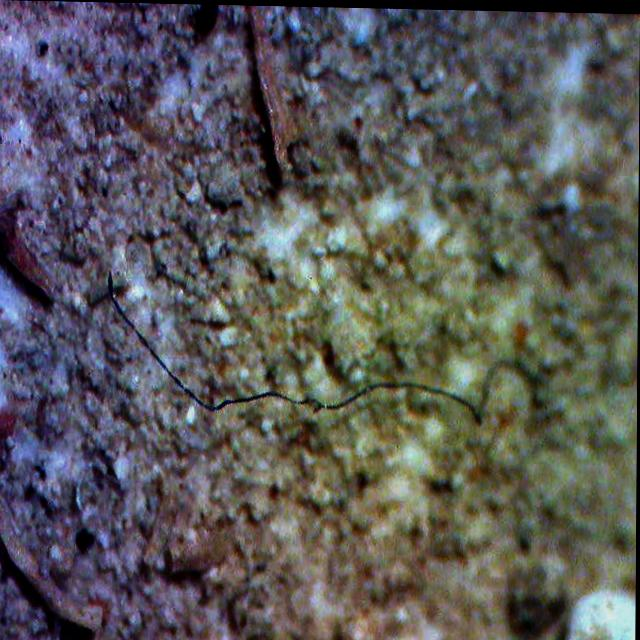microplastic: (84, 270, 540, 477)
